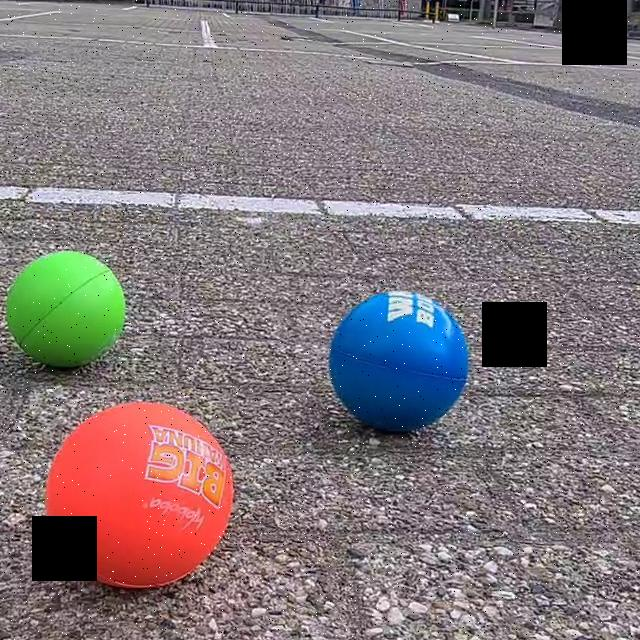ball: (8, 248, 128, 366)
